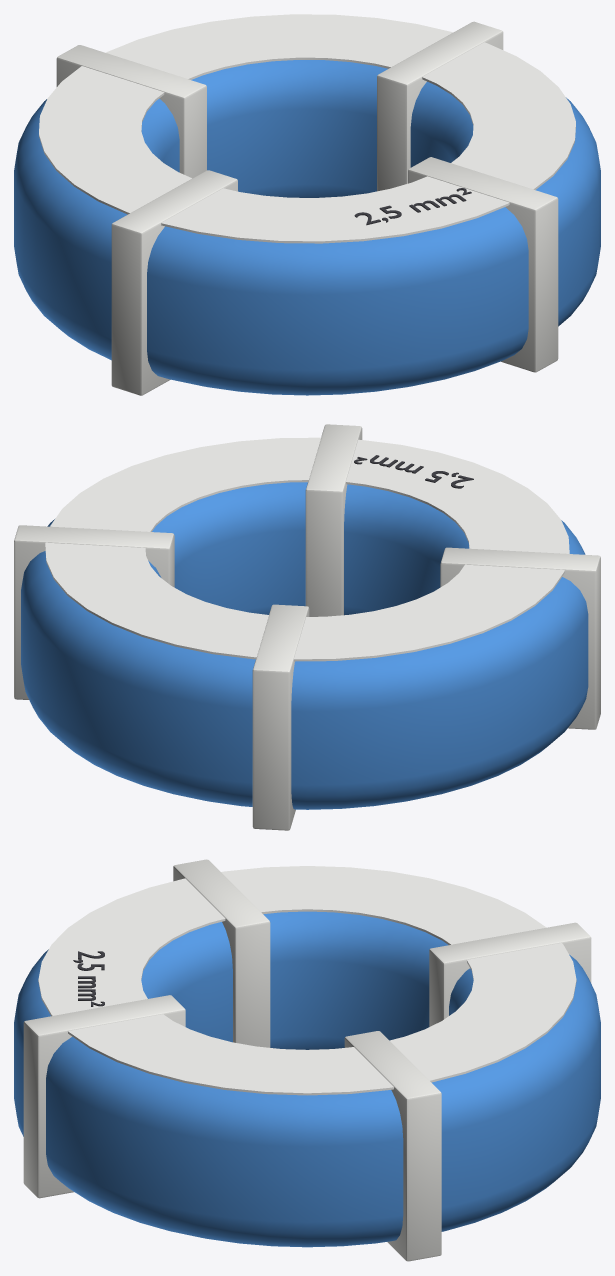
File: ELE-FIO-002.glb
3 renders of one model, top to bottom at view 1: azimuth 30°, elevation 25°; view 2: azimuth 150°, elevation 25°; view 3: azimuth 270°, elevation 25°, orthographic. The views are drawn at different scales.
Visible parts, largest first — view 1: ELE-FIO-002_rolo, ELE-FIO-002_etiqueta, ELE-FIO-002_fita2, ELE-FIO-002_fita3, ELE-FIO-002_fita0, ELE-FIO-002_fita1, ELE-FIO-002_texto; view 2: ELE-FIO-002_rolo, ELE-FIO-002_etiqueta, ELE-FIO-002_fita1, ELE-FIO-002_fita3, ELE-FIO-002_fita2, ELE-FIO-002_fita0, ELE-FIO-002_texto; view 3: ELE-FIO-002_rolo, ELE-FIO-002_etiqueta, ELE-FIO-002_fita0, ELE-FIO-002_fita2, ELE-FIO-002_fita3, ELE-FIO-002_fita1, ELE-FIO-002_texto.
Boxes of the visible parts, left/top/right/bottom form: ELE-FIO-002_rolo: left=14, top=60, right=600, bottom=395; ELE-FIO-002_etiqueta: left=39, top=14, right=575, bottom=243; ELE-FIO-002_fita2: left=111, top=170, right=237, bottom=395; ELE-FIO-002_fita3: left=408, top=157, right=558, bottom=372; ELE-FIO-002_fita0: left=377, top=21, right=503, bottom=191; ELE-FIO-002_fita1: left=56, top=45, right=206, bottom=178; ELE-FIO-002_texto: left=354, top=188, right=471, bottom=225; ELE-FIO-002_rolo: left=21, top=482, right=588, bottom=809; ELE-FIO-002_etiqueta: left=45, top=437, right=569, bottom=661; ELE-FIO-002_fita1: left=252, top=604, right=309, bottom=830; ELE-FIO-002_fita3: left=305, top=424, right=362, bottom=616; ELE-FIO-002_fita2: left=440, top=547, right=600, bottom=729; ELE-FIO-002_fita0: left=14, top=525, right=174, bottom=699; ELE-FIO-002_texto: left=354, top=455, right=473, bottom=488; ELE-FIO-002_rolo: left=14, top=911, right=600, bottom=1247; ELE-FIO-002_etiqueta: left=38, top=866, right=576, bottom=1095; ELE-FIO-002_fita0: left=344, top=1031, right=441, bottom=1261; ELE-FIO-002_fita2: left=173, top=859, right=270, bottom=1047; ELE-FIO-002_fita3: left=23, top=995, right=185, bottom=1198; ELE-FIO-002_fita1: left=429, top=922, right=591, bottom=1026; ELE-FIO-002_texto: left=73, top=951, right=104, bottom=1006.
Size of the model in its own units: 0.24 by 0.074 by 0.24.
